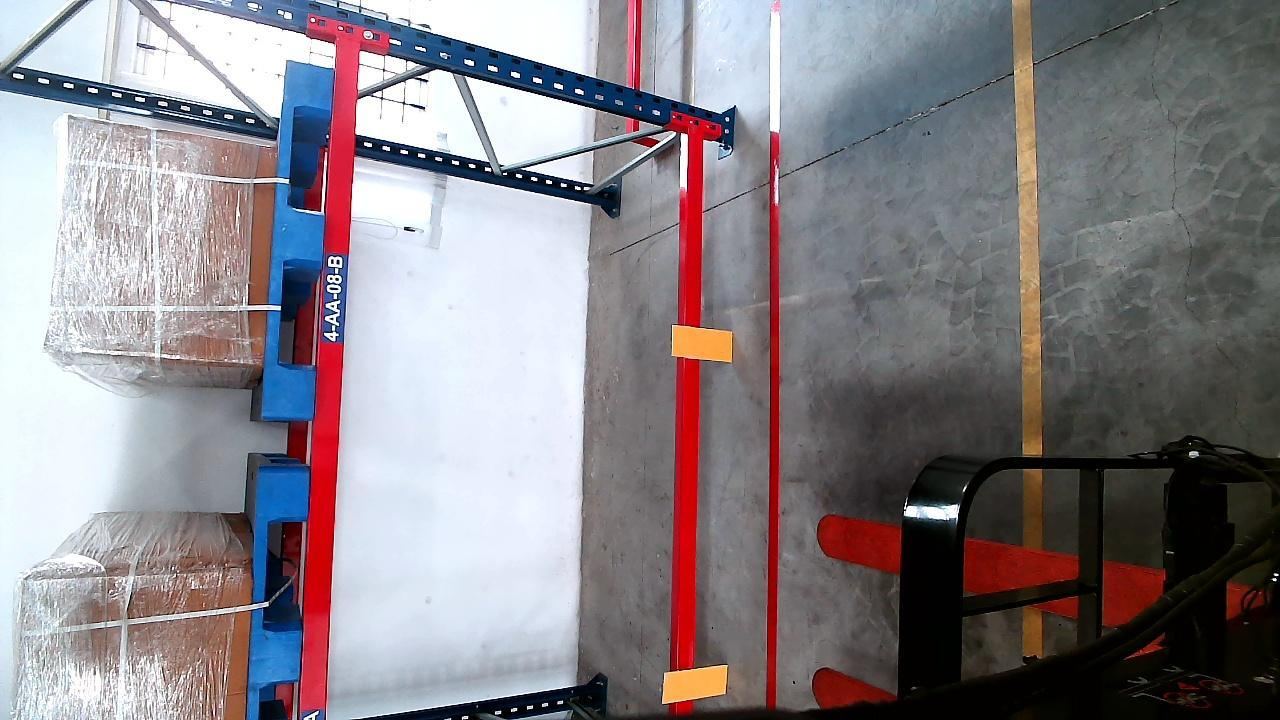red_line: (768, 2, 778, 708)
yellow_line: (1011, 0, 1043, 485)
